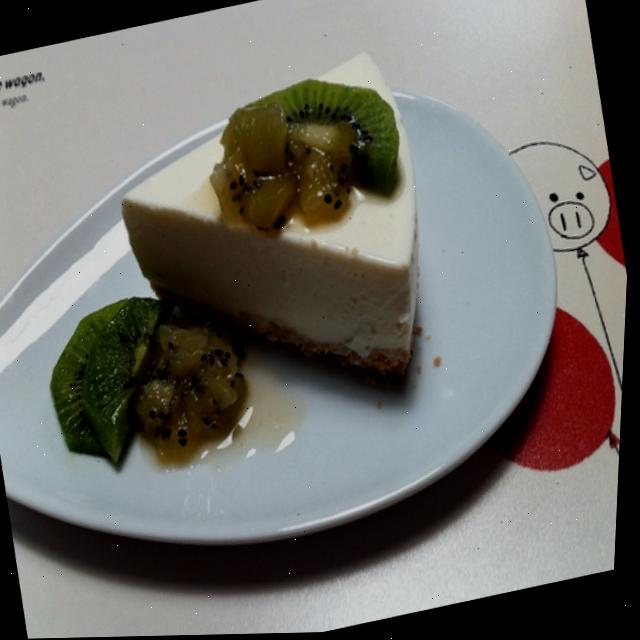蛋糕甜品: (0, 14, 615, 610)
